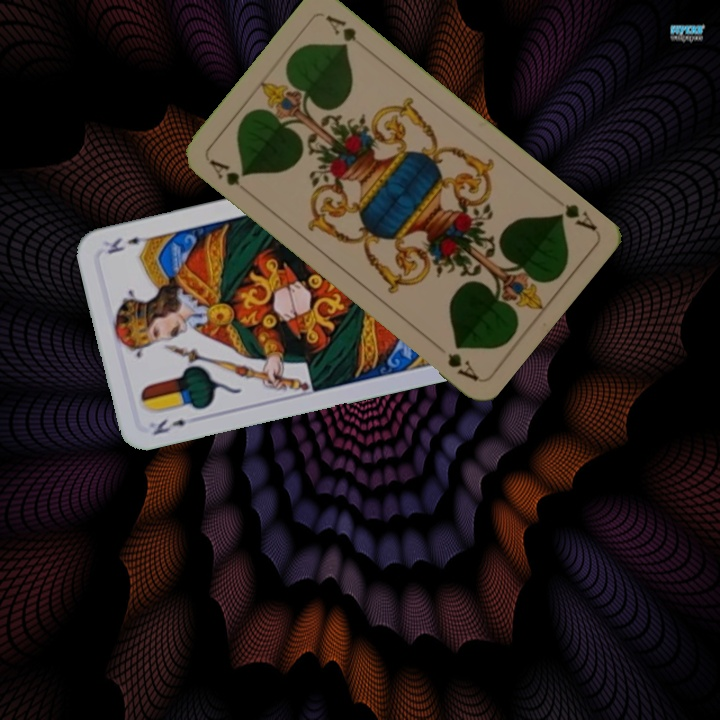EK: (148, 414, 189, 438)
GA: (205, 155, 254, 198), (550, 199, 599, 234)
